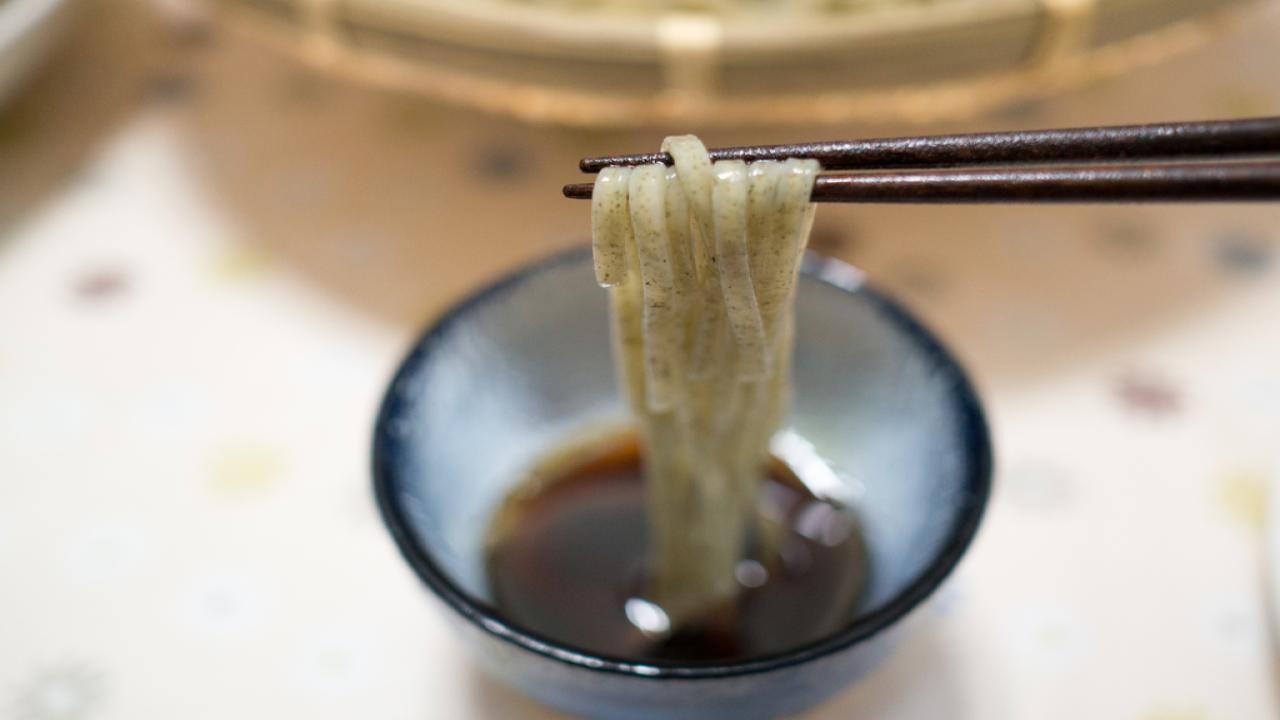chopstick: (564, 116, 1280, 207)
